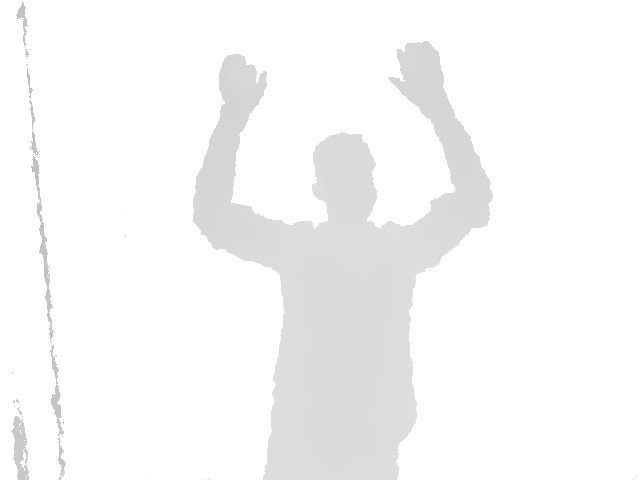hand: (387, 40, 445, 110), (217, 53, 268, 119)
head: (312, 132, 379, 221)
person: (191, 39, 494, 480)
